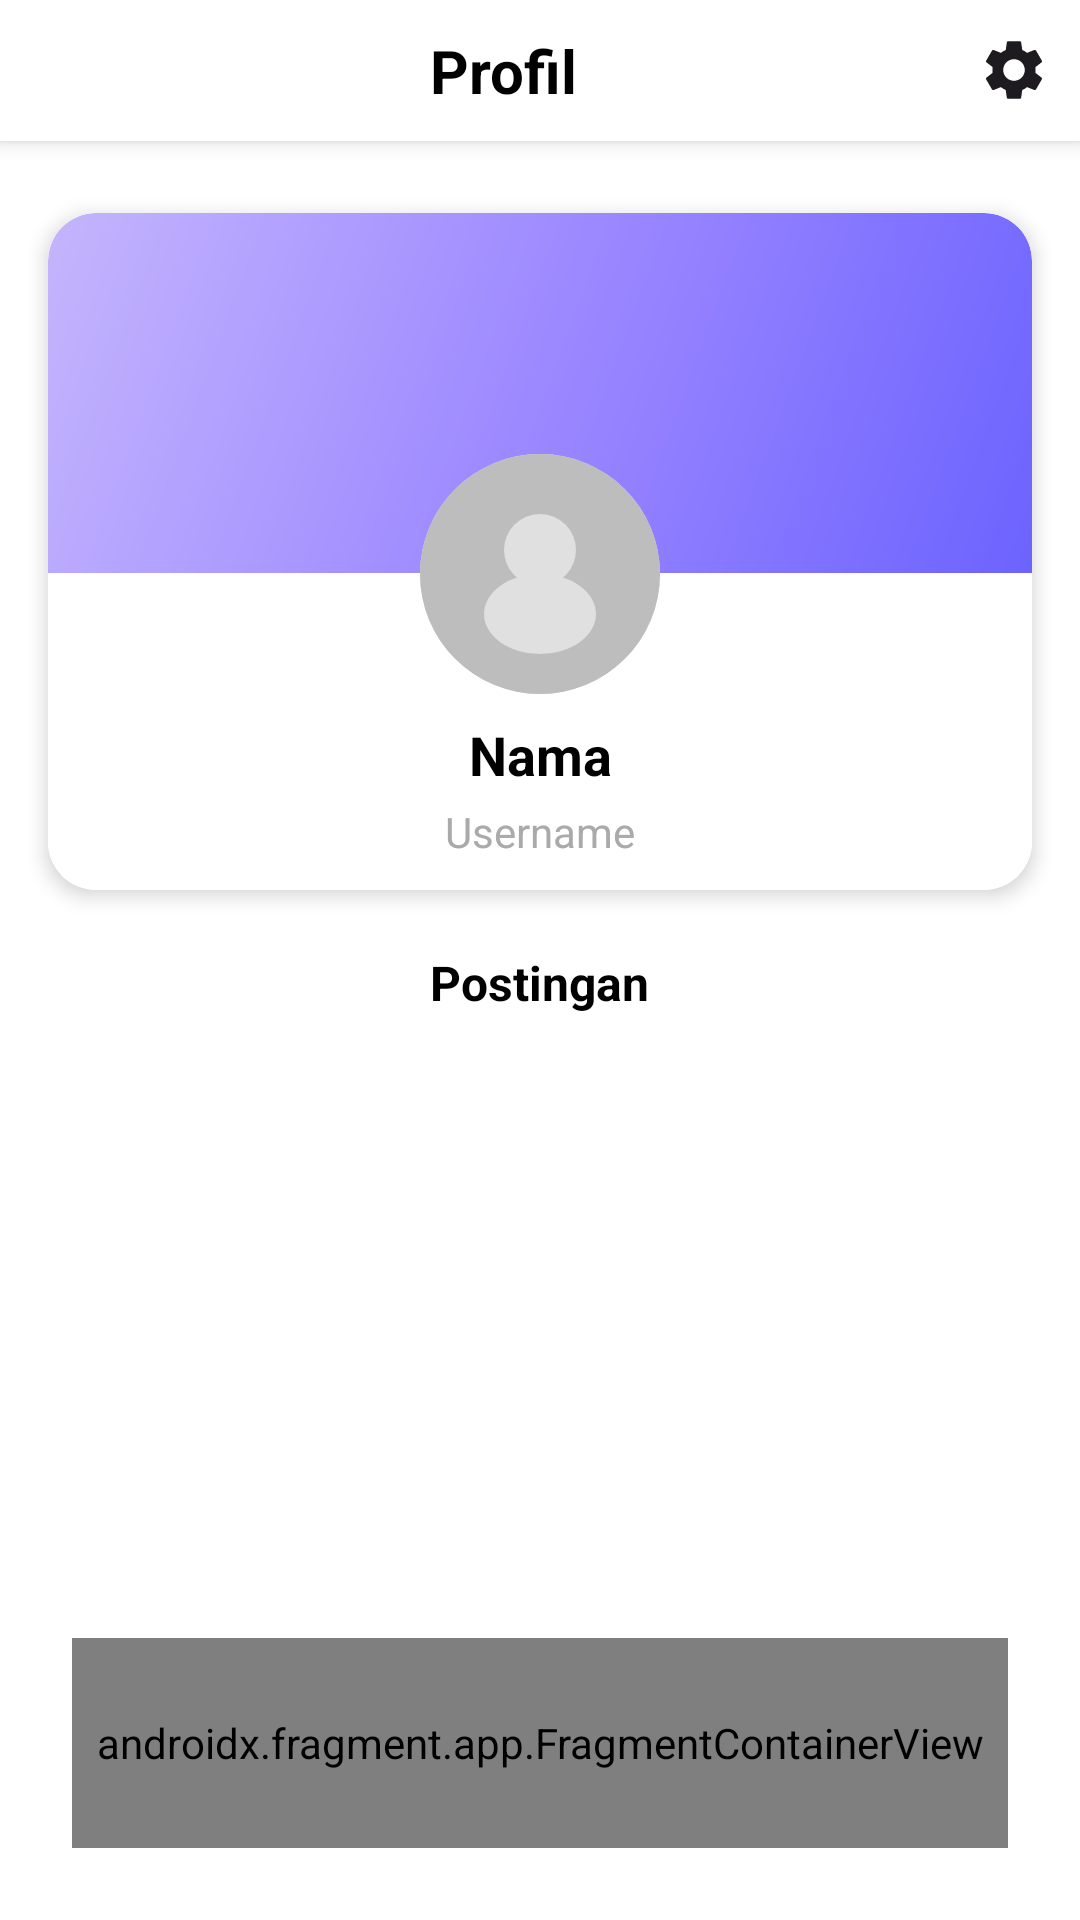

Icon click points for this 1080 × 1920 phone screenshot, format (x,y):
photo profile: (540,574)
Settings: (1014,70)
